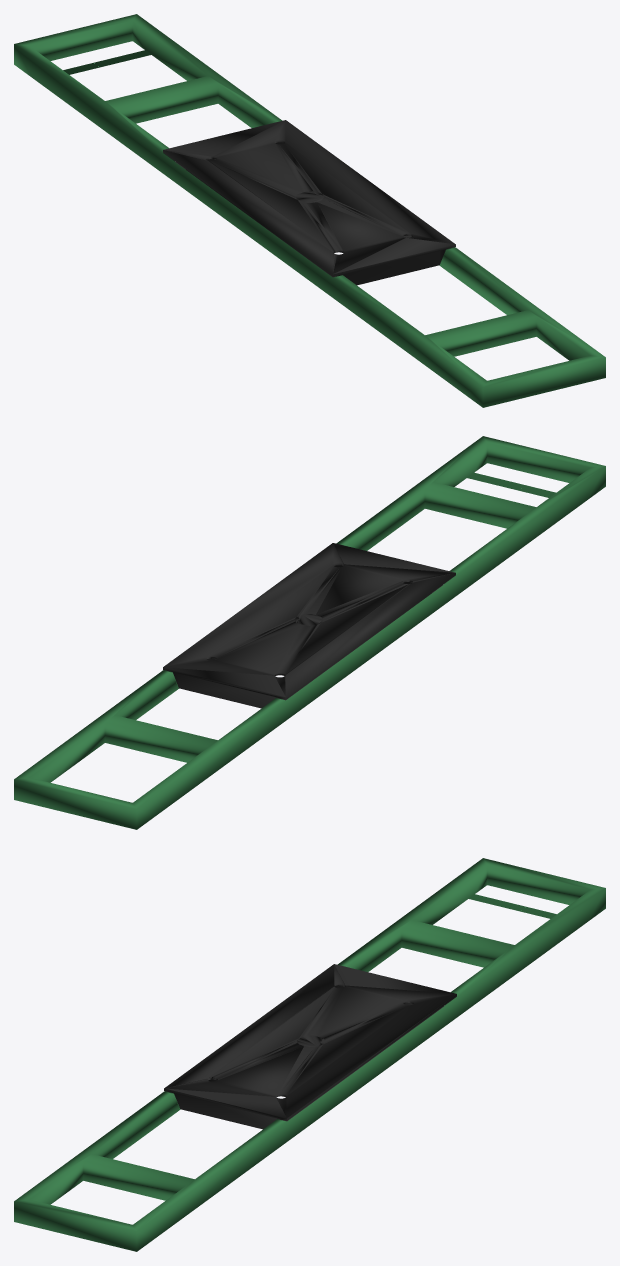
File: 上料机-左右平移.obj
3 renders of one model, top to bottom at view 1: azimuth 30°, elevation 25°; view 2: azimuth 150°, elevation 25°; view 3: azimuth 330°, elevation 25°, orthographic.
Size of the model in its own units: 501 by 92.17 by 3311.
